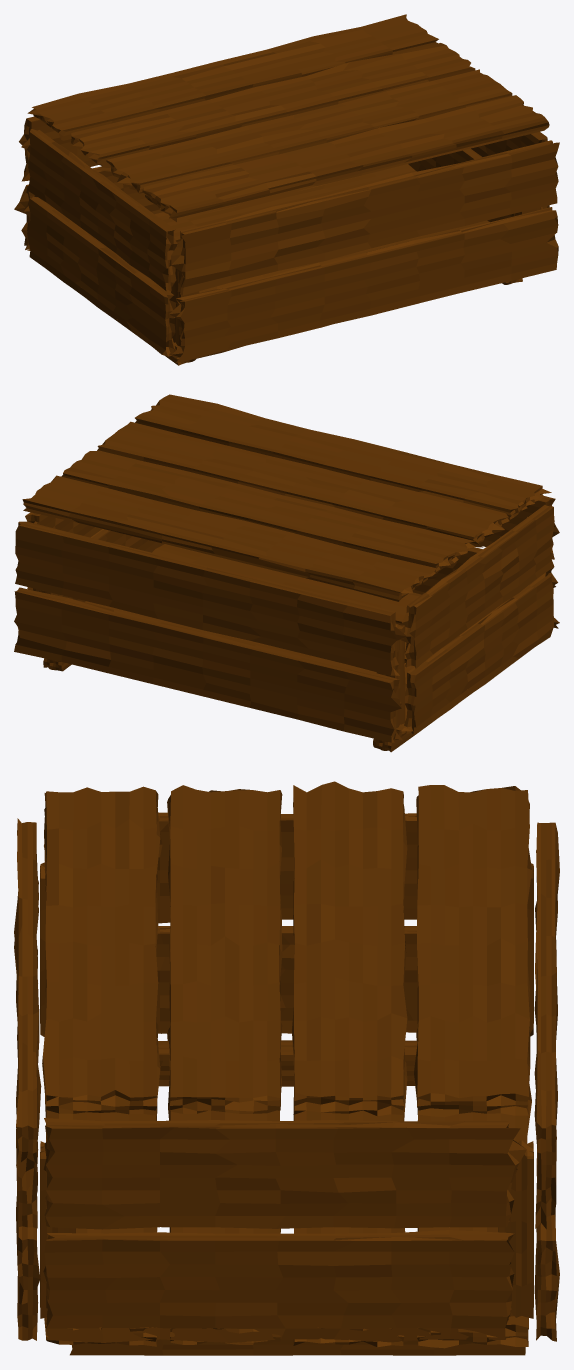
3 views of the same model, one above another, from view 1: azimuth 30°, elevation 25°; view 2: azimuth 150°, elevation 25°; view 3: azimuth 270°, elevation 25° (orthographic). The views are drawn at different scales.
Visible parts, largest first — view 1: Куб.017; view 2: Куб.017; view 3: Куб.017.
Part boxes in pixels (box(x1,y1,x2,y2)): Куб.017: box(14, 14, 559, 365); Куб.017: box(14, 394, 559, 752); Куб.017: box(14, 781, 559, 1355).
Size of the model in its own units: 365 by 149 by 264.
